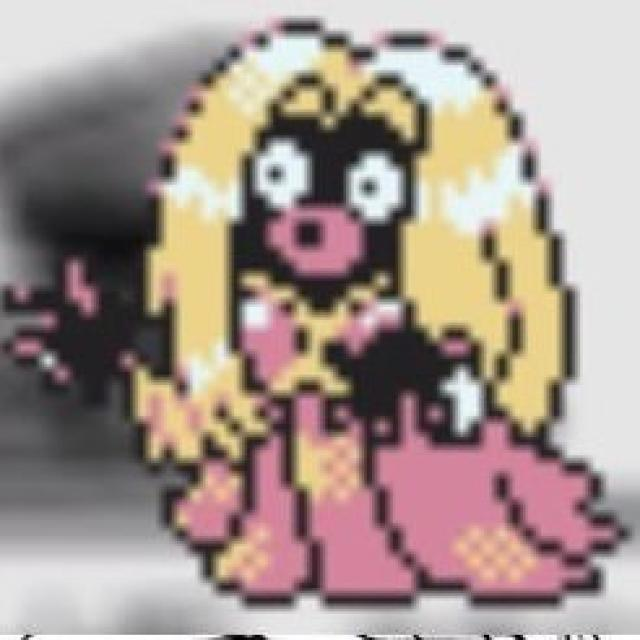Jynx: (121, 17, 589, 610)
